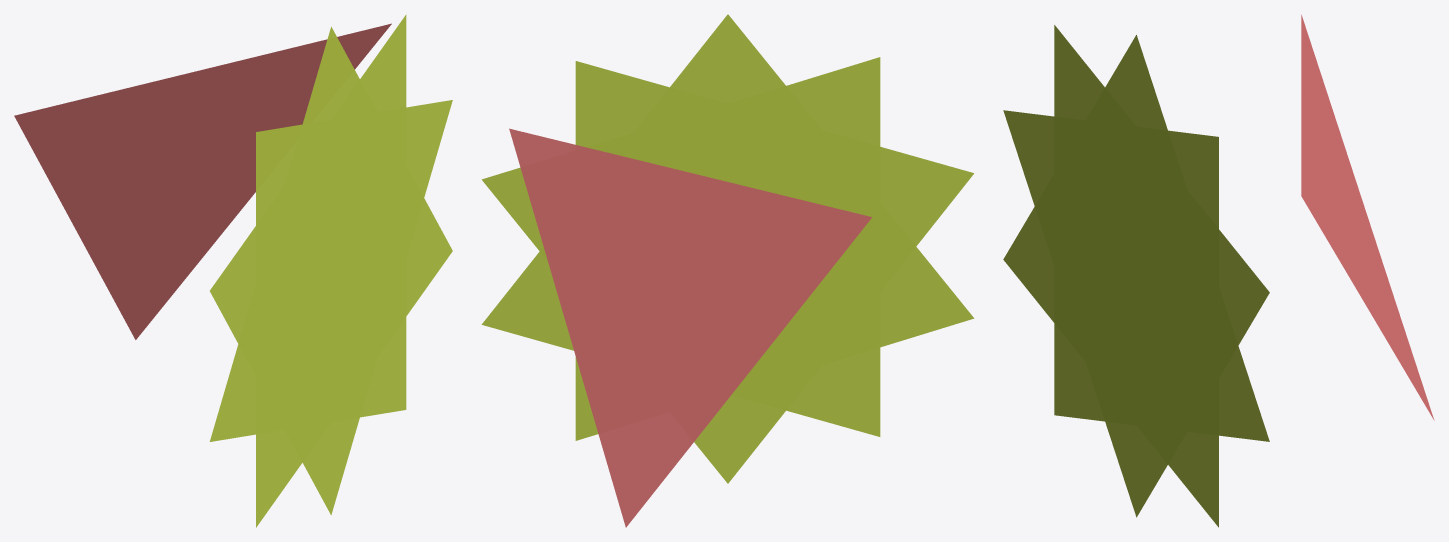
The model's file is GreatStellatedTruncatedDodecahedronF.obj.
The picture shows the model from 3 angles, left to right: view 1: azimuth 30°, elevation 25°; view 2: azimuth 150°, elevation 25°; view 3: azimuth 270°, elevation 25°; orthographic projection. The views are drawn at different scales.
Size of the model in its own units: 1.12 by 1.24 by 1.
